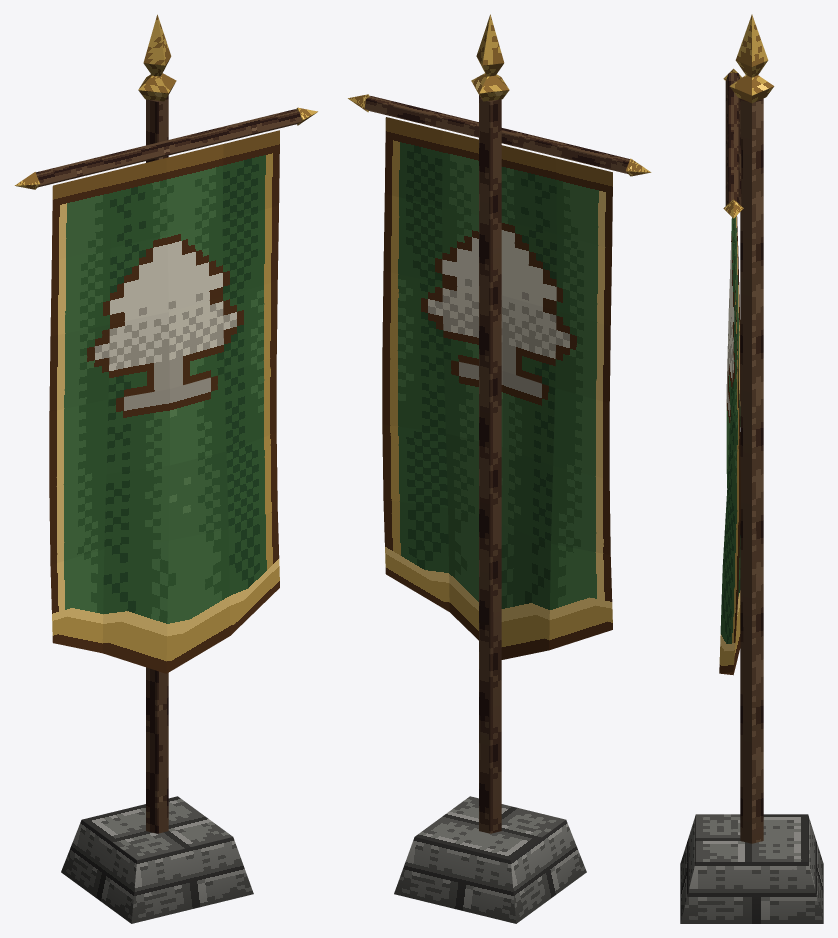
The model's file is banner_green.glb.
The picture shows the model from 3 angles, left to right: view 1: azimuth 30°, elevation 25°; view 2: azimuth 150°, elevation 25°; view 3: azimuth 270°, elevation 25°; orthographic projection.
Visible parts, largest first — view 1: cloth, banner_green; view 2: cloth, banner_green; view 3: banner_green, cloth.
Part boxes in pixels (left/top/right/bottom): cloth: left=49, top=130, right=279, bottom=673; banner_green: left=14, top=14, right=317, bottom=923; cloth: left=382, top=117, right=612, bottom=659; banner_green: left=348, top=14, right=651, bottom=923; banner_green: left=680, top=14, right=823, bottom=923; cloth: left=719, top=216, right=740, bottom=675.
Bounding box in the file's own units: 1.74 × 4.75 × 0.7.
4 materials, 4 textured.
